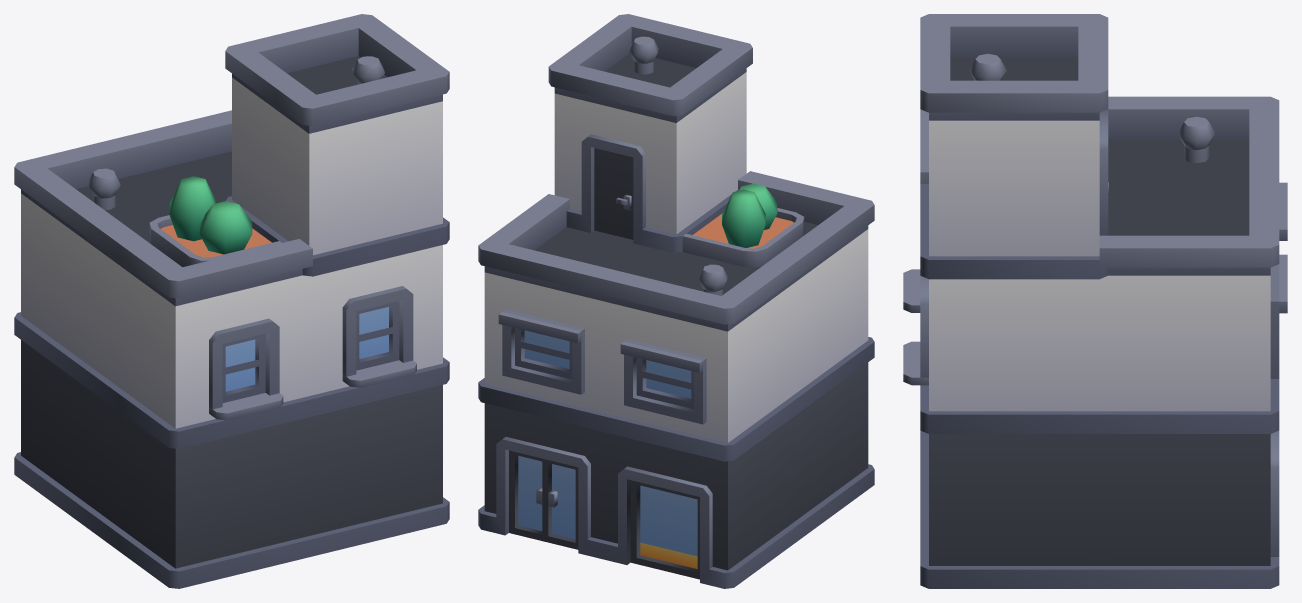
Rendered from building-d.glb.
3 renders of one model, left to right at view 1: azimuth 30°, elevation 25°; view 2: azimuth 150°, elevation 25°; view 3: azimuth 270°, elevation 25°, orthographic. The views are drawn at different scales.
Visible parts, largest first — view 1: building-d; view 2: building-d; view 3: building-d.
Boxes of the visible parts, box(x1,y1,x2,y2) form: building-d: box(14, 14, 449, 588); building-d: box(478, 14, 874, 588); building-d: box(903, 14, 1287, 588).
Size of the model in its own units: 0.84 by 1.29 by 0.8999.
Materials: 1 (1 with a texture image).
